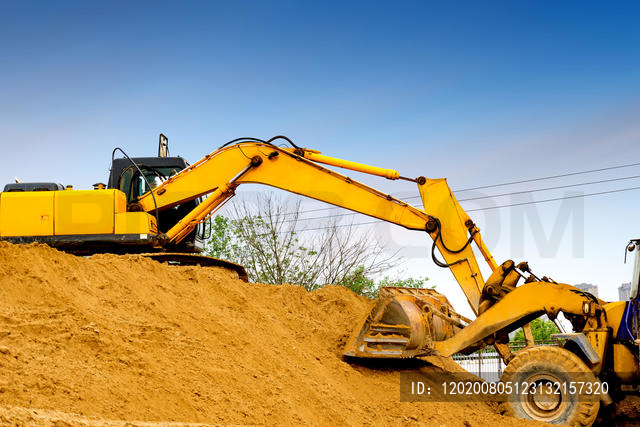excavator: (2, 126, 486, 302)
